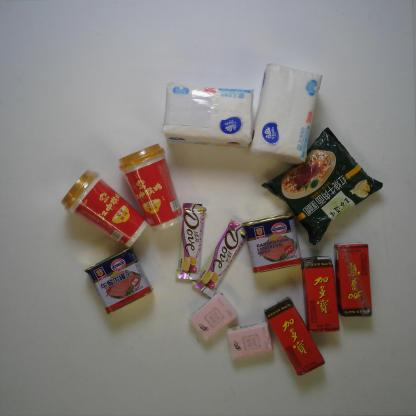Canned Food: (84, 245, 154, 316), (241, 212, 303, 274)
Chocolate: (191, 217, 248, 299), (175, 203, 207, 282)
Drink: (263, 296, 327, 378), (300, 255, 341, 334), (333, 243, 373, 318)
Instant Drink: (60, 168, 149, 249), (118, 143, 184, 233)
Instant Noodles: (261, 125, 383, 246)
Tissue: (248, 63, 324, 164), (163, 81, 255, 149), (188, 290, 238, 343), (226, 320, 273, 362)
